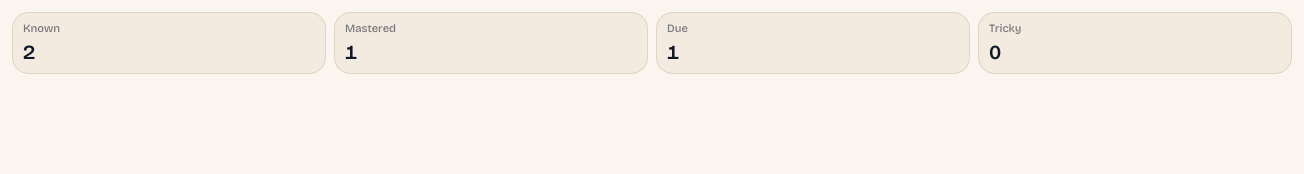
opening one › closes again when the same figure is pressed twice
What coordinates should you click on to do the following:
click the button "Known 2"
I would click on:
 (42, 28)
Its box is [12, 12, 326, 74].
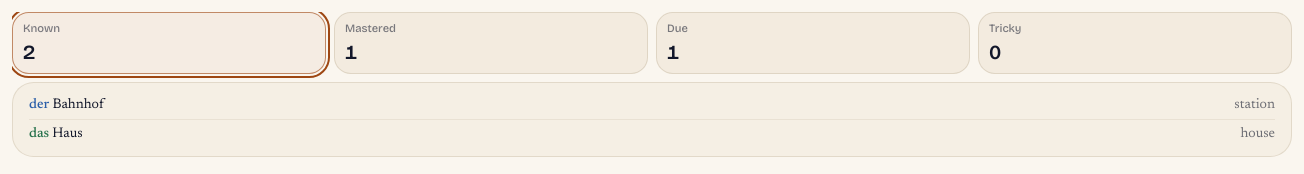
What coordinates should you click on to do the following:
click the button "Known 2"
I would click on:
 (42, 28)
Its box is [12, 12, 326, 74].
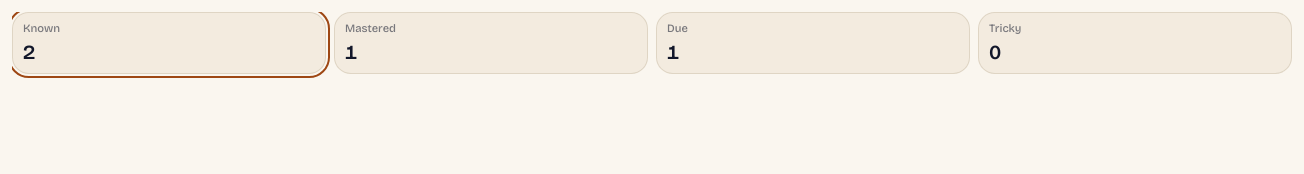
Check: the button "Known 2" is collapsed, box [12, 12, 326, 74]
Check: the text "Bahnhof" is gone
